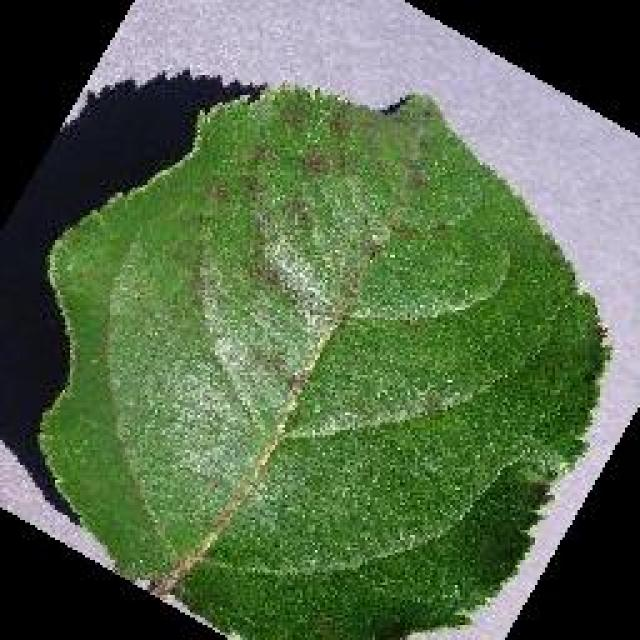apple scab disease: (32, 78, 612, 638)
